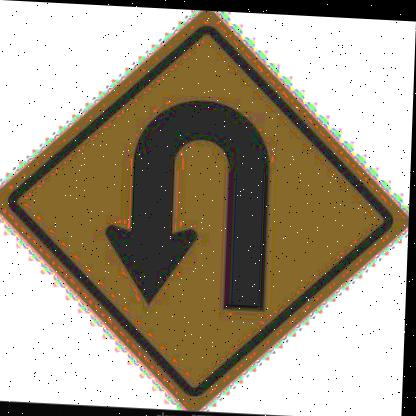U-turn: (0, 1, 404, 411)
